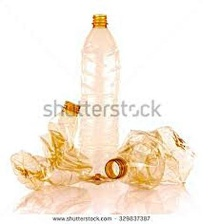bottle: (6, 97, 95, 197), (77, 10, 123, 185), (100, 124, 204, 195)
